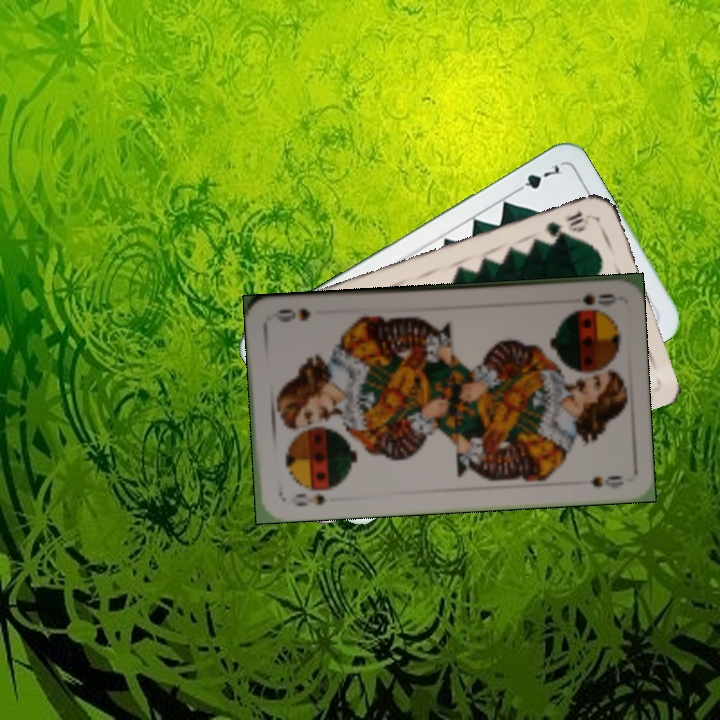G10: (541, 208, 595, 240)
G7: (509, 160, 565, 197)
SO: (291, 489, 330, 509), (578, 290, 618, 309)
